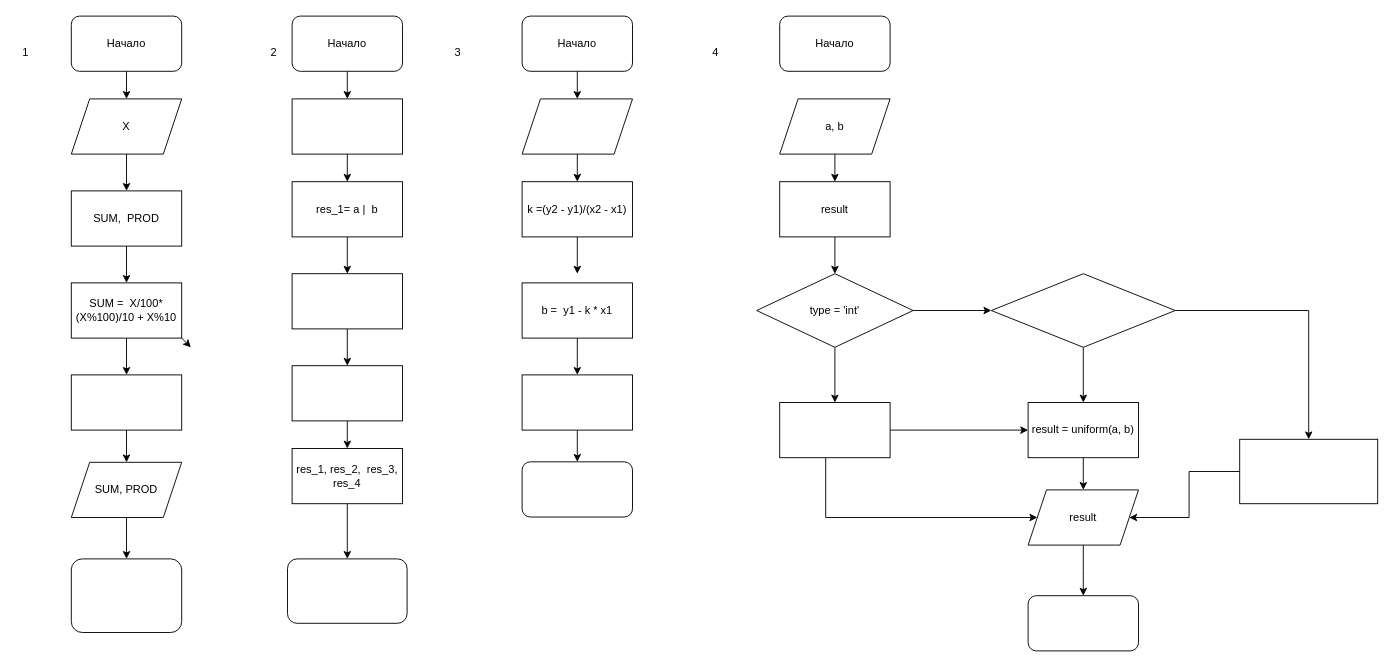
This 1394x667 diagram has some shape labels left out. The shapes that lost their labels are listed below. From the top down, each one's centre as x and y in pixels, then its label:
At [346,126]: "a=5, b=6".
At [576,126]: "x1, y1, x2, y2".
At [346,301]: "res_2 = a >> 2 res_3 = a << 2".
At [1082,310]: "type = 'float'".
At [126,402]: "PROD = x/100* (x%100)/10 * X%10".
At [346,393]: "res_4 = a & b".
At [576,402]: "f'y = {k}x + {b}".
At [834,430]: "result = randint(alb)".
At [1308,471]: "result = chr(randint(ord(a), ord(b)))".
